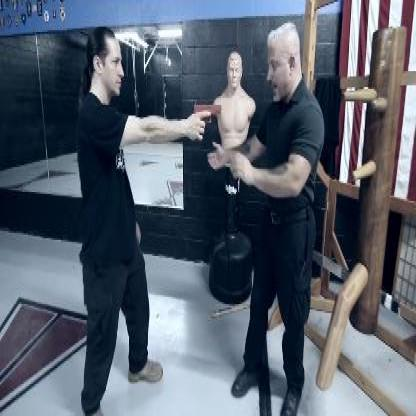pistol: (192, 101, 222, 123)
